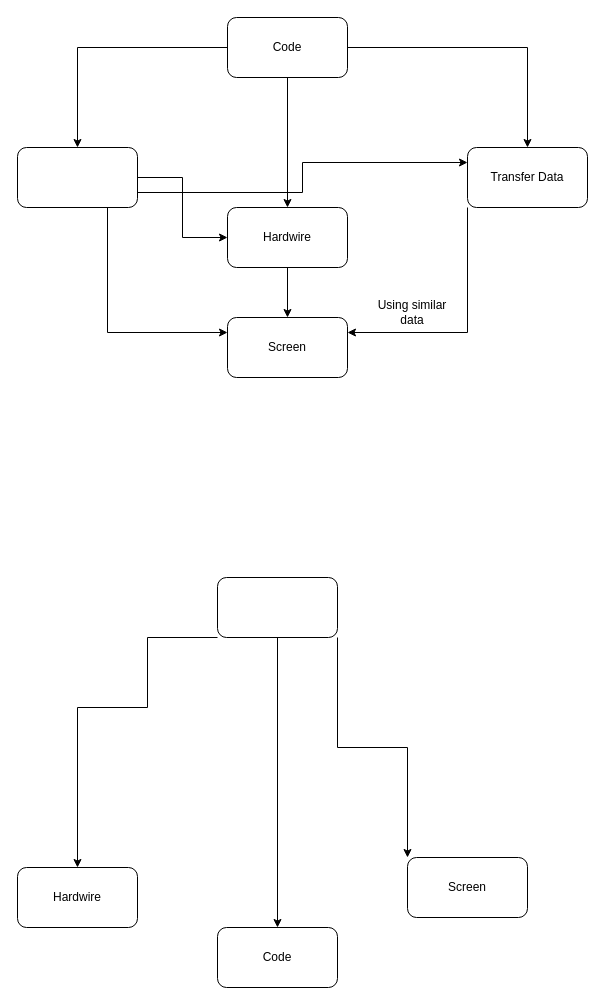
Image size: 605x1005. Some labels were removed from this diagram. The shapes that lost their labels are listed below. From the top down, each one's box as (x1, y1, x2, y2) in pixels, then its label:
(16, 146, 138, 208): Leadingship
(216, 576, 338, 638): ADC
